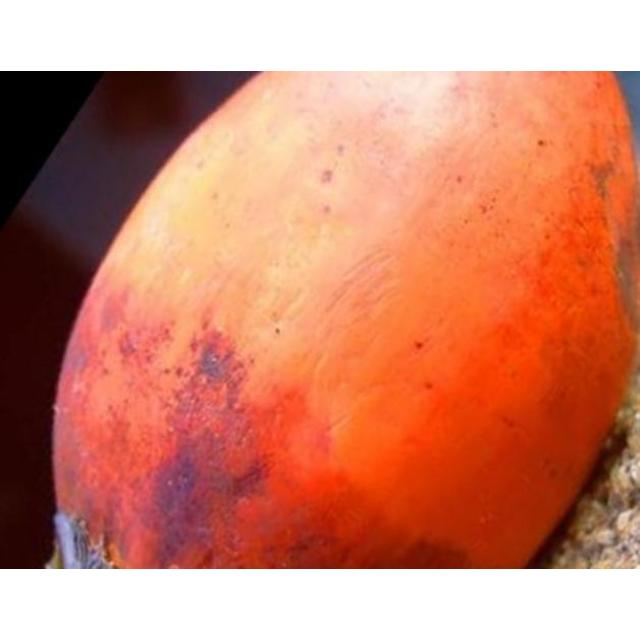good: (46, 72, 639, 568)
